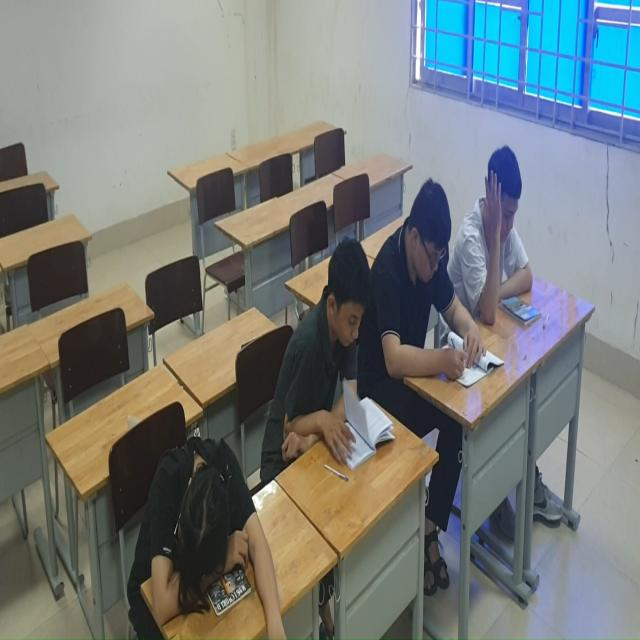raise_hand: (474, 140, 540, 341)
read: (265, 231, 392, 481), (373, 178, 485, 425)
sleep: (124, 439, 295, 640)
